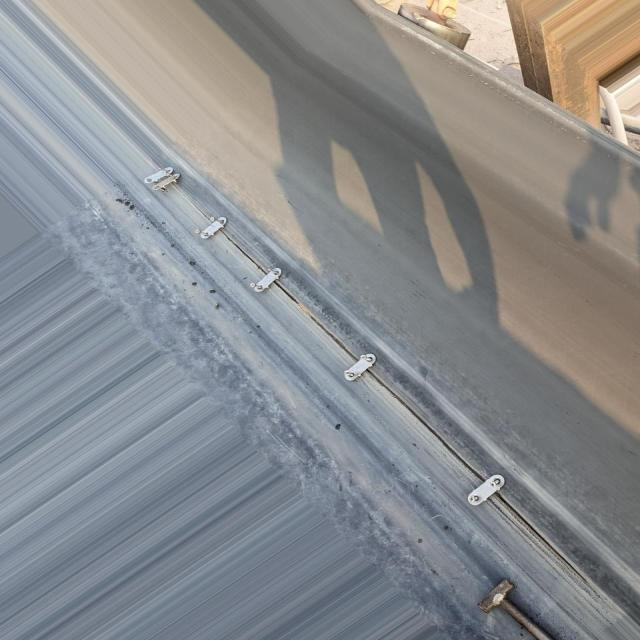Roller: (400, 1, 471, 47)
patch work: (142, 159, 582, 583), (470, 569, 563, 640)
